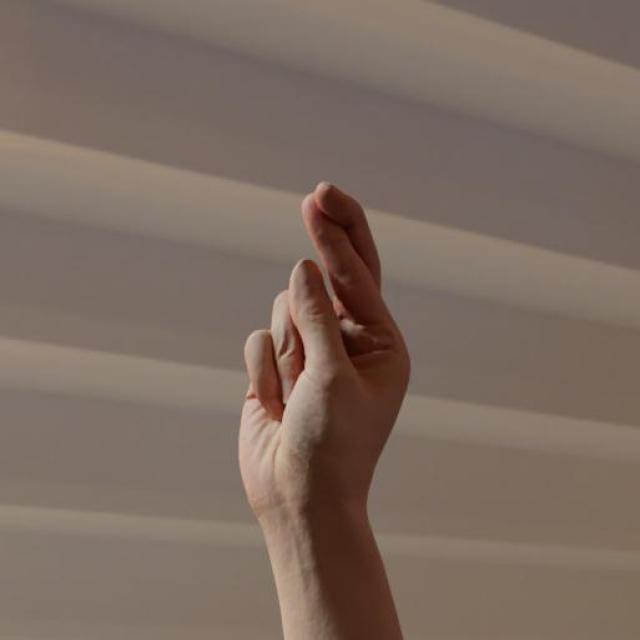R: (233, 179, 414, 513)
